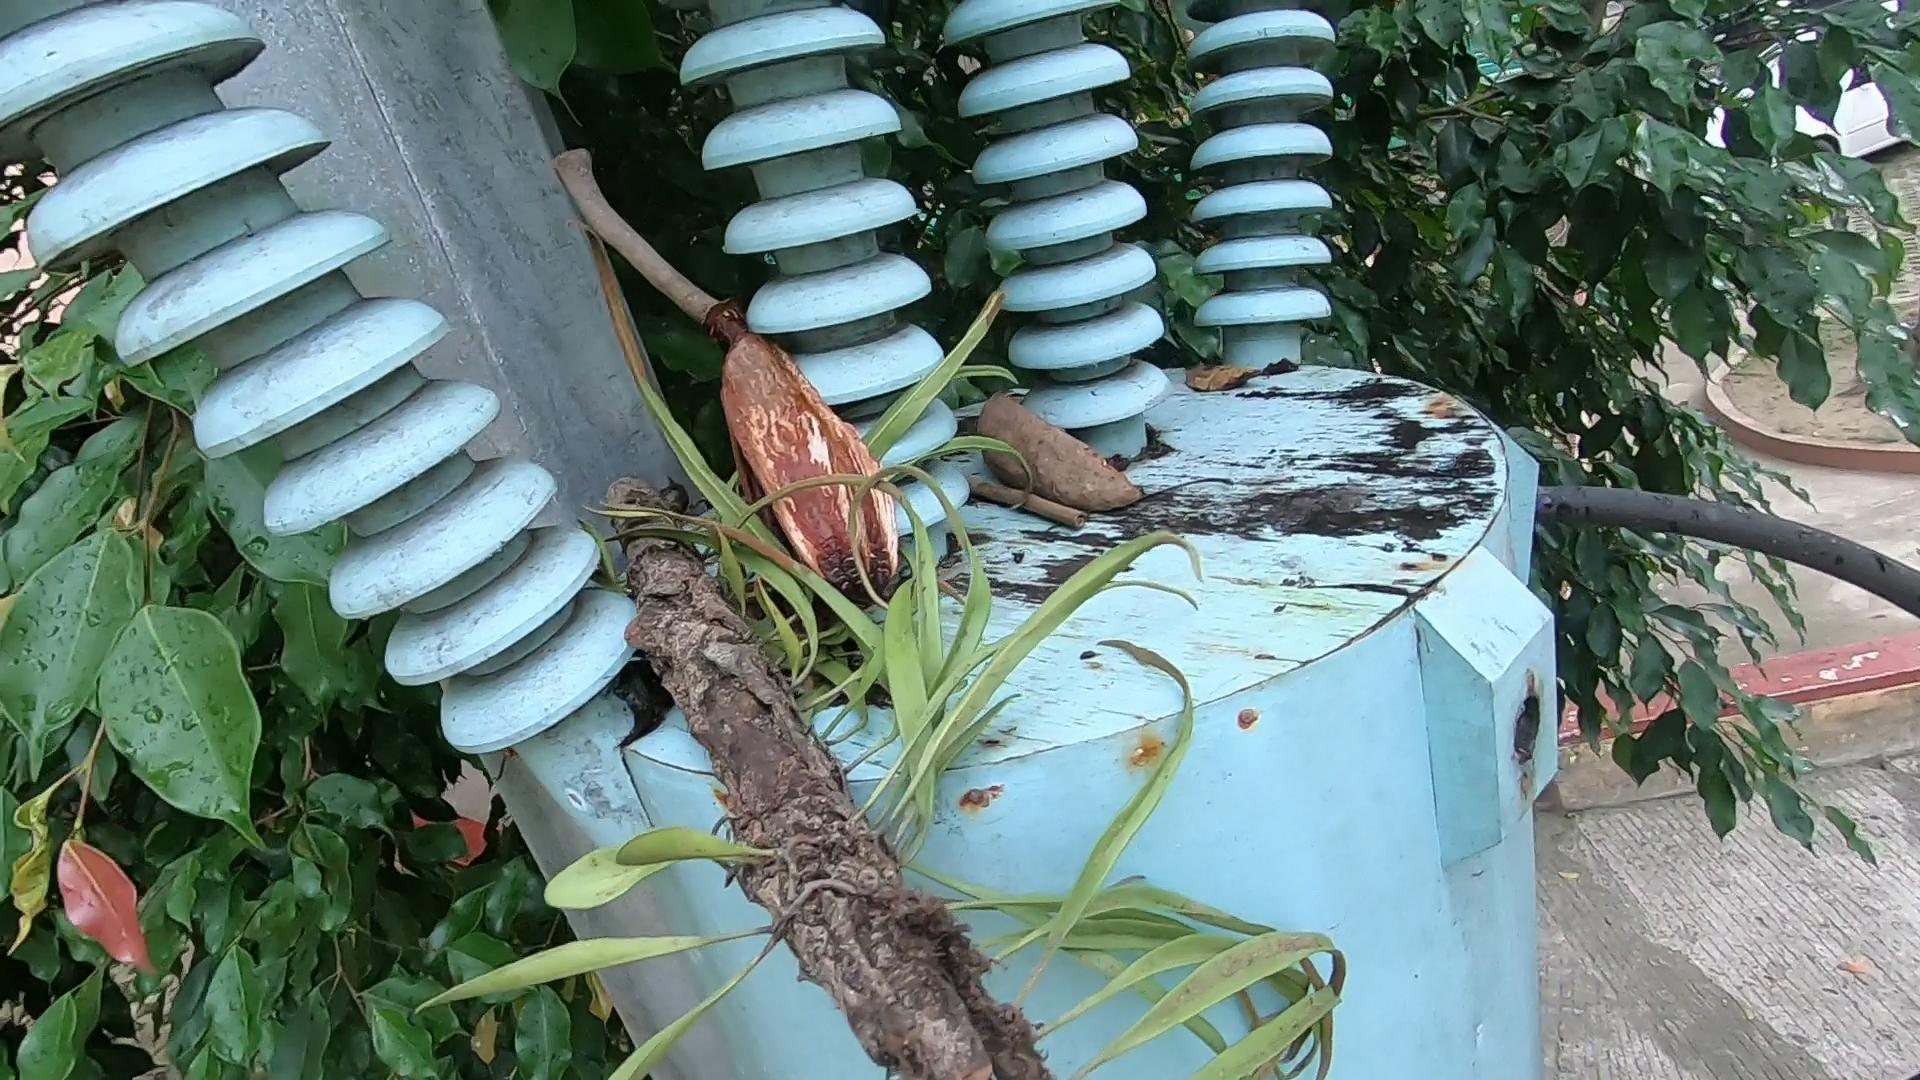branch with leaves: (678, 448, 1395, 1062)
leaf: (1176, 340, 1329, 398)
mahogany fruit: (680, 330, 953, 622), (935, 392, 1137, 546)
tree branch: (553, 127, 699, 349), (938, 451, 1112, 564)
